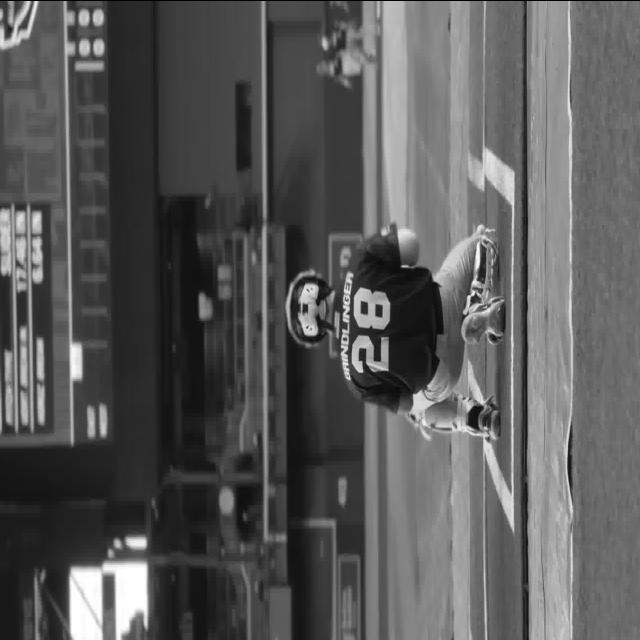shoe: (460, 295, 505, 345), (466, 397, 500, 440)
